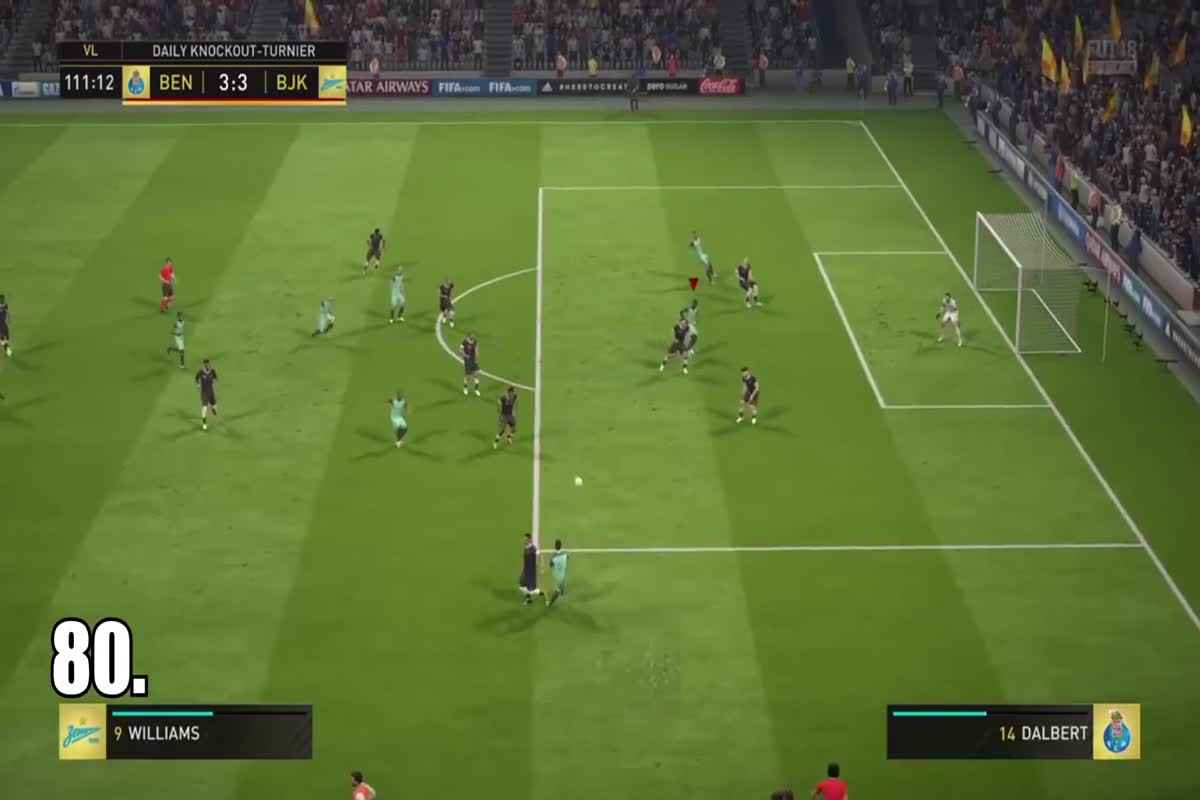ball: (565, 467, 598, 492)
